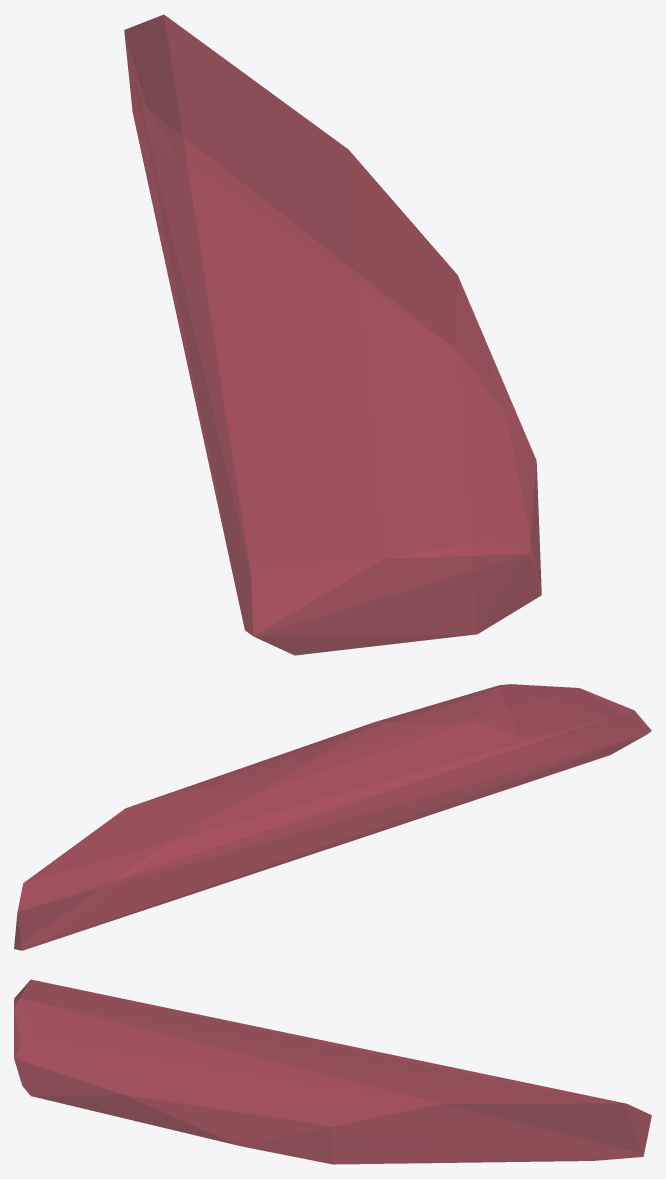
The picture shows the model from 3 angles, top to bottom: view 1: azimuth 30°, elevation 25°; view 2: azimuth 150°, elevation 25°; view 3: azimuth 270°, elevation 25°; orthographic projection. The views are drawn at different scales.
Visible parts, largest first — view 1: Shape_IndexedFaceSet.048_Shape_IndexedFaceSet.6311; view 2: Shape_IndexedFaceSet.048_Shape_IndexedFaceSet.6311; view 3: Shape_IndexedFaceSet.048_Shape_IndexedFaceSet.6311.
Part boxes in pixels (x1=…): Shape_IndexedFaceSet.048_Shape_IndexedFaceSet.6311: x1=124, y1=14, x2=541, y2=655; Shape_IndexedFaceSet.048_Shape_IndexedFaceSet.6311: x1=14, y1=684, x2=651, y2=950; Shape_IndexedFaceSet.048_Shape_IndexedFaceSet.6311: x1=14, y1=979, x2=651, y2=1164.
Bounding box in the file's own units: 0.0855 × 0.019 × 0.1806.
